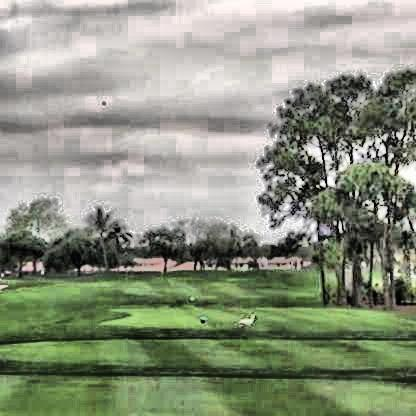golfball: (98, 98, 103, 103)
